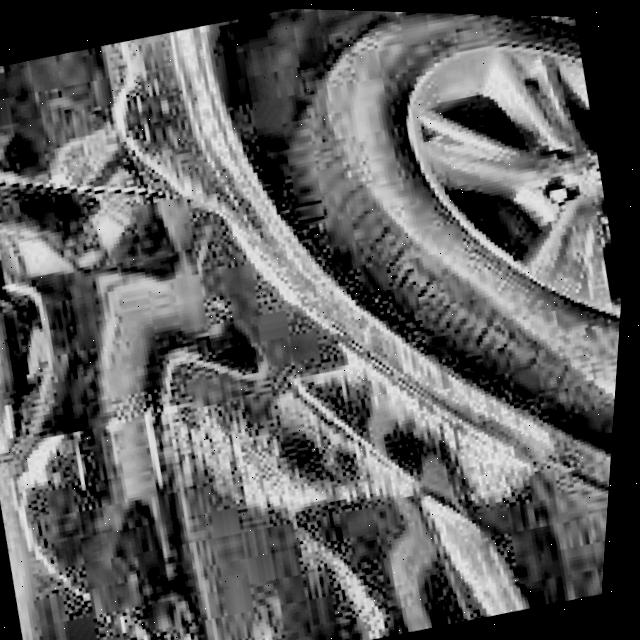door_scratch: (0, 367, 403, 640), (228, 245, 566, 558), (86, 17, 315, 308)
